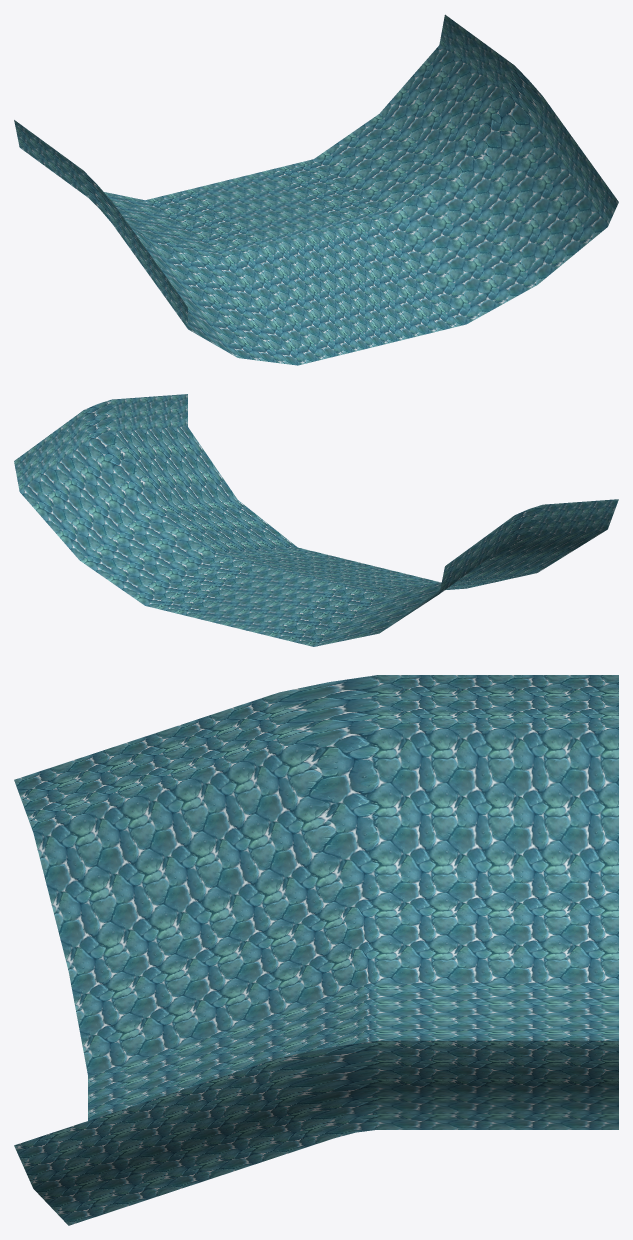
File: plane_goes_down.FBX
3 renders of one model, top to bottom at view 1: azimuth 30°, elevation 25°; view 2: azimuth 150°, elevation 25°; view 3: azimuth 270°, elevation 25°, orthographic. The views are drawn at different scales.
Parts seen in each view (by area): view 1: Plane001; view 2: Plane001; view 3: Plane001.
Part boxes in pixels (x1,y1,x2,y2): Plane001: [14, 14, 618, 365]; Plane001: [14, 394, 618, 646]; Plane001: [14, 675, 618, 1225].
Bounding box in the file's own units: 90.55 × 33.38 × 63.34.
1 material, 1 textured.
